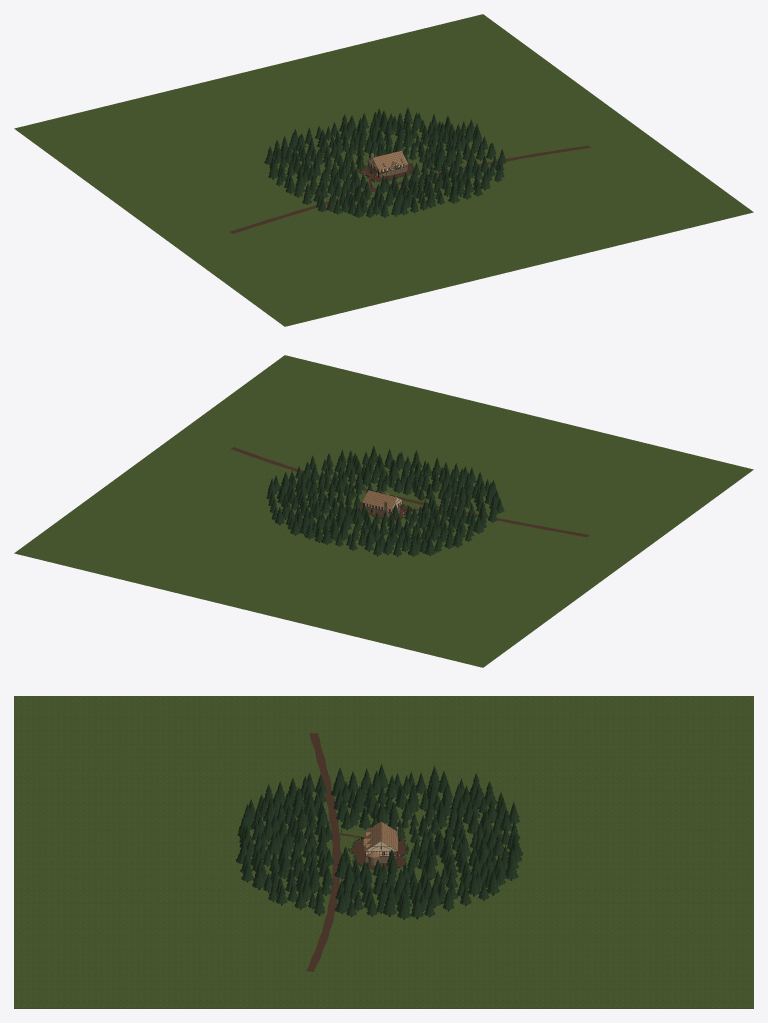
The model's file is han-dis.glb.
3 views of the same model, one above another, from view 1: azimuth 30°, elevation 25°; view 2: azimuth 150°, elevation 25°; view 3: azimuth 270°, elevation 25° (orthographic). The views are drawn at different scales.
Parts seen in each view (by area): view 1: Cevre_Cayir, Cevre_Agac_Uzak, Cevre_Agaclar, Cevre_Yol, Cevre_Cayir_Yakin; view 2: Cevre_Cayir, Cevre_Agac_Uzak, Cevre_Agaclar, Cevre_Yol, Cevre_Cayir_Yakin; view 3: Cevre_Cayir, Cevre_Agac_Uzak, Cevre_Agaclar, Cevre_Yol, Cevre_Cayir_Yakin, Dis_Cati, Cevre_Avlu.
Boxes of the visible parts, <box> form: Cevre_Cayir: <box>14,14,753,326</box>; Cevre_Agac_Uzak: <box>264,107,506,217</box>; Cevre_Agaclar: <box>331,140,437,188</box>; Cevre_Yol: <box>230,145,590,233</box>; Cevre_Cayir_Yakin: <box>330,149,442,196</box>; Cevre_Cayir: <box>14,355,753,667</box>; Cevre_Agac_Uzak: <box>266,445,504,556</box>; Cevre_Agaclar: <box>331,479,438,528</box>; Cevre_Yol: <box>231,447,589,537</box>; Cevre_Cayir_Yakin: <box>327,485,443,528</box>; Cevre_Cayir: <box>14,696,753,1008</box>; Cevre_Agac_Uzak: <box>236,764,523,919</box>; Cevre_Agaclar: <box>317,807,436,880</box>; Cevre_Yol: <box>306,733,363,971</box>; Cevre_Cayir_Yakin: <box>320,827,429,879</box>; Dis_Cati: <box>363,821,397,851</box>; Cevre_Avlu: <box>350,839,406,869</box>.
Bounding box in the file's own units: 420 × 21.13 × 420.
18 materials, 14 textured.
